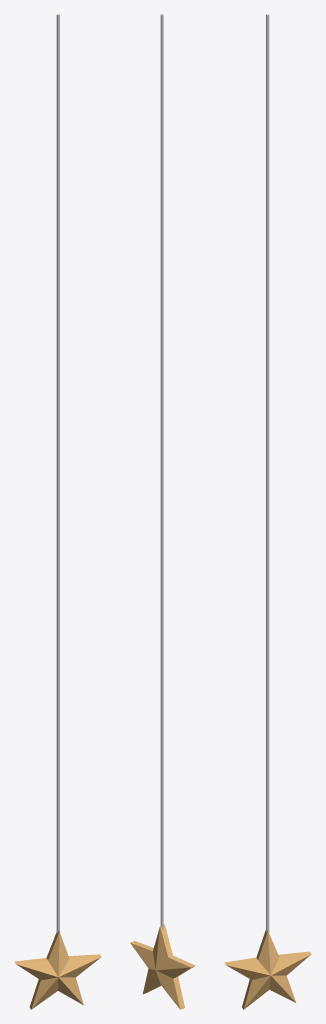
Rendered from HangingStar.fbx.
3 views of the same model, side by side, from view 1: azimuth 90°, elevation 25°; view 2: azimuth 210°, elevation 25°; view 3: azimuth 270°, elevation 25° (orthographic).
Parts seen in each view (by area): view 1: Star; view 2: Star; view 3: Star.
Part boxes in pixels (x1,y1,x2,y2): Star: (14,14,101,1009); Star: (130,14,195,1009); Star: (224,14,311,1009).
Size of the model in its own units: 6.35 by 248 by 19.78.
